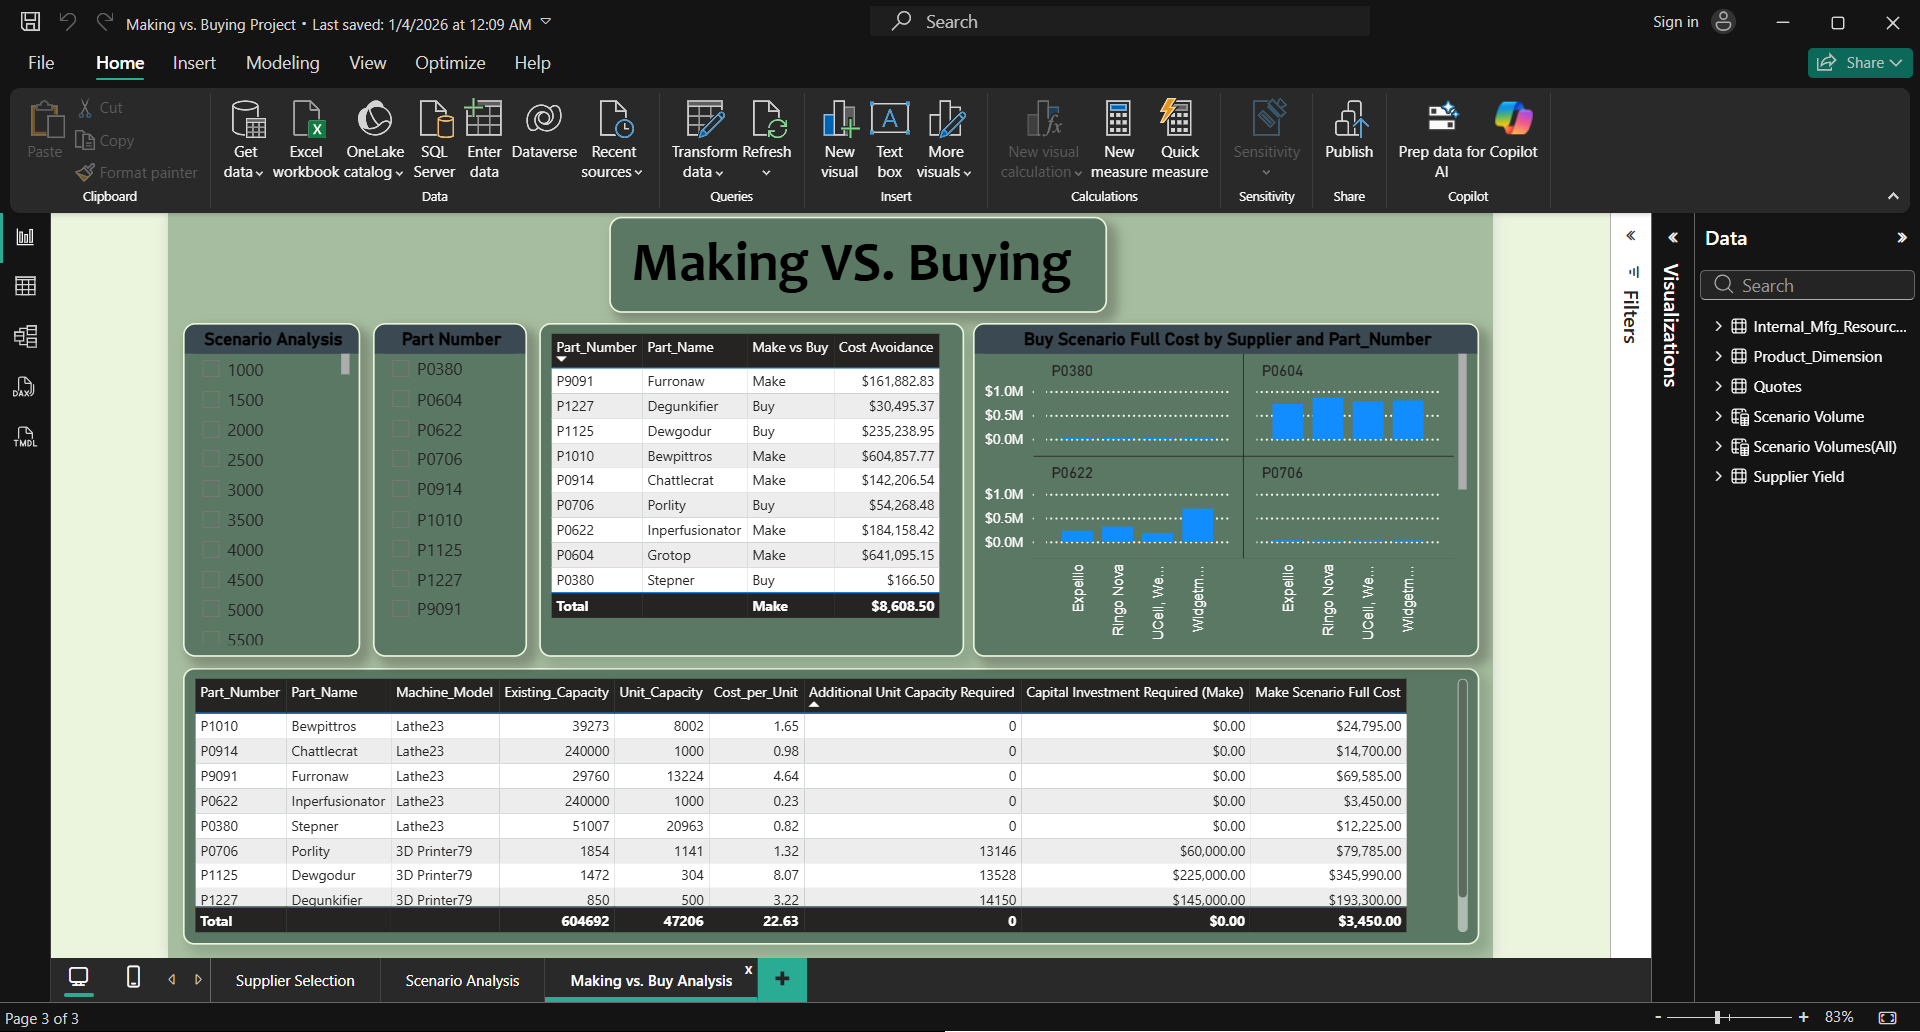

This screenshot's page, from the dashboard's own definition file:
{"tool":"powerbi","page":{"name":"Making vs. Buy Analysis","canvas":[1280,720],"ordinal":2},"visuals":[{"type":"tableEx","fields":{"Values":["Internal_Mfg_Resource_Estimates.Part_Number","Product_Dimension.Part_Name","Internal_Mfg_Resource_Estimates.Machine_Model","Sum(Internal_Mfg_Resource_Estimates.Existing_Capacity)","Sum(Internal_Mfg_Resource_Estimates.Unit_Capacity)","Sum(Internal_Mfg_Resource_Estimates.Cost_per_Unit)","Internal_Mfg_Resource_Estimates.Additional Unit Capacity Required","Internal_Mfg_Resource_Estimates.Capital Investment Required (Make)","Internal_Mfg_Resource_Estimates.Make Scenario - Full Cost"]},"box":[14.5,439.4,1251.9,266.8],"z":0},{"type":"slicer","title":"Scenario Analysis","fields":{"Values":["Scenario Volume.Scenario Volume"]},"box":[14.5,106.2,171.4,322.3],"z":1000},{"type":"slicer","title":"Part Number","fields":{"Values":["Internal_Mfg_Resource_Estimates.Part_Number"]},"box":[198,106.2,148.5,322.3],"z":2000},{"type":"textbox","box":[426.2,3.6,480.5,93],"z":3000},{"type":"tableEx","fields":{"Values":["Product_Dimension.Part_Number","Product_Dimension.Part_Name","Scenario Volume.Make vs Buy","Scenario Volume.Cost Avoidance"]},"box":[358.6,106.2,410.5,322.3],"z":4000},{"type":"clusteredColumnChart","fields":{"Category":["Quotes.Supplier"],"Y":["Scenario Volume.Buy Scenario Full Cost"],"Rows":["Quotes.Part_Number"]},"box":[777.5,106.2,488.9,322.3],"z":5000}]}

Visuals, with their boxes on the page's 1280x720 design canvas (x1, y1, x2, y2). These are canvas units, not pixel positions in the 1920x1032 screenshot, which may show the page scaled, cropped or inside an application window:
tableEx - Internal_Mfg_Resource_Estimates.Part_Number x Product_Dimension.Part_Name: 14 439 1266 706
"Scenario Analysis" slicer: 14 106 186 428
"Part Number" slicer: 198 106 346 428
textbox: 426 4 907 97
tableEx - Product_Dimension.Part_Number x Product_Dimension.Part_Name: 359 106 769 428
clusteredColumnChart - Quotes.Supplier x Scenario Volume.Buy Scenario Full Cost: 778 106 1266 428
